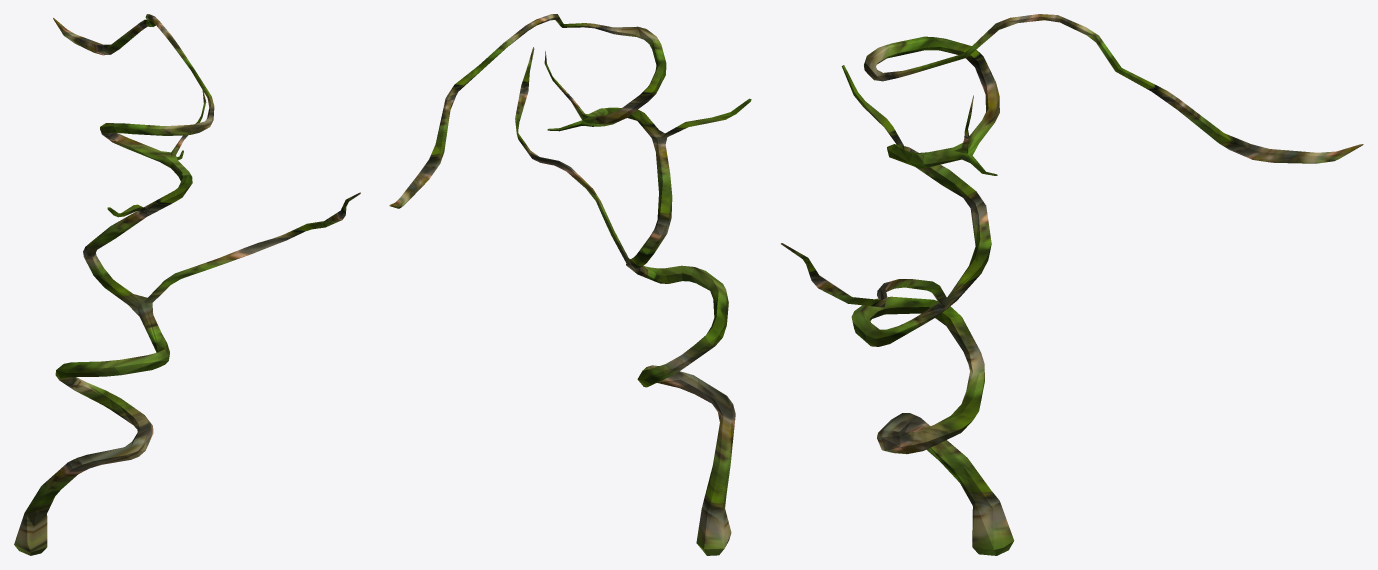
Rendered from TheOctagon_Tree.gltf.
3 renders of one model, left to right at view 1: azimuth 30°, elevation 25°; view 2: azimuth 150°, elevation 25°; view 3: azimuth 270°, elevation 25°, orthographic. The views are drawn at different scales.
Parts seen in each view (by area): view 1: TheOctagon_Tree; view 2: TheOctagon_Tree; view 3: TheOctagon_Tree.
Part boxes in pixels (x1,y1,x2,y2): TheOctagon_Tree: (14,14,360,555); TheOctagon_Tree: (389,14,751,555); TheOctagon_Tree: (781,14,1363,555).
Size of the model in its own units: 26.1 by 45.41 by 38.1.
Materials: 1 (1 with a texture image).
